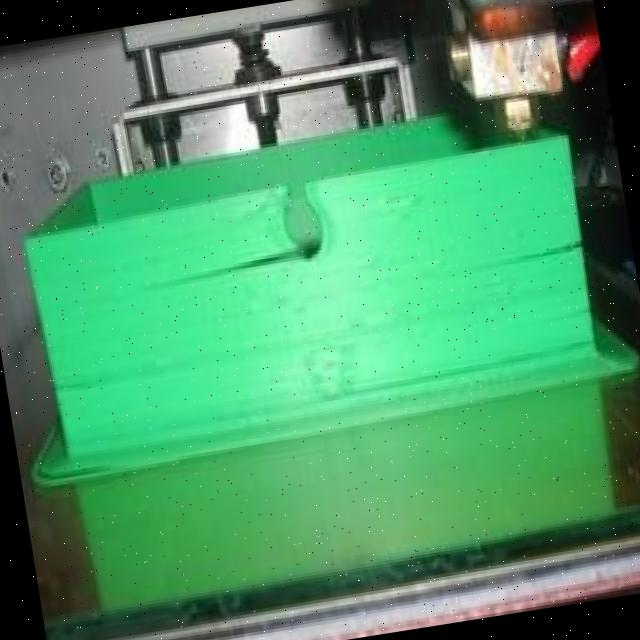cracks: (102, 216, 352, 330), (443, 218, 604, 292), (44, 350, 146, 422)
